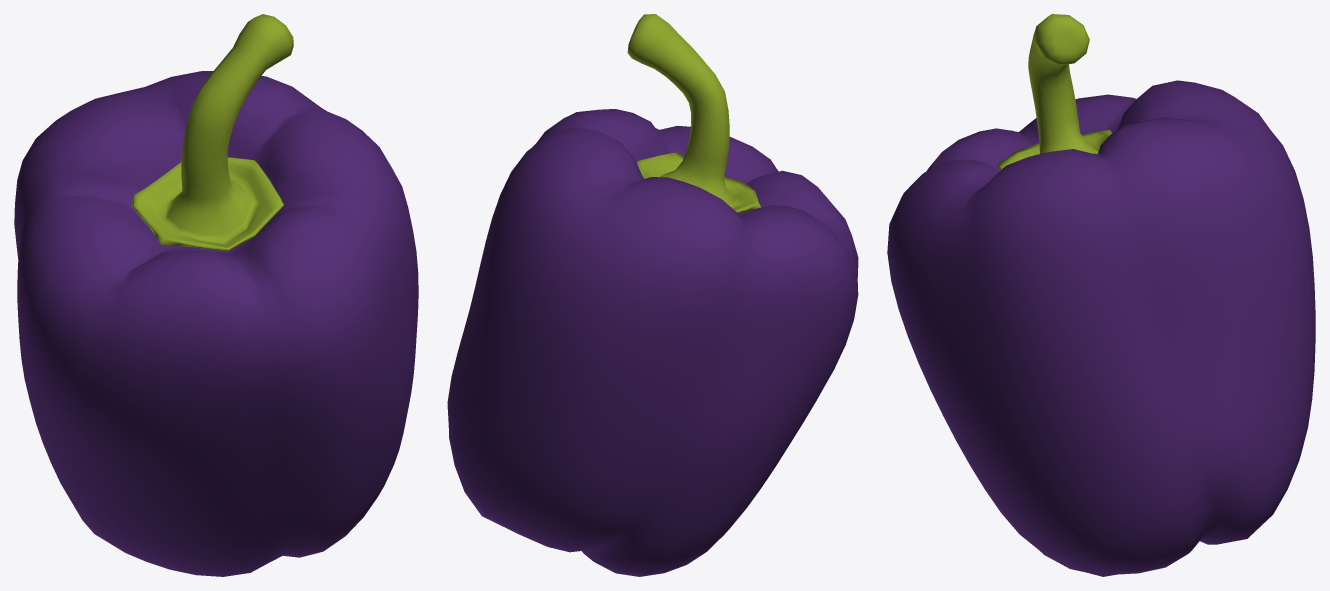
The model's file is BellPepper4.fbx.
The picture shows the model from 3 angles, left to right: view 1: azimuth 30°, elevation 25°; view 2: azimuth 150°, elevation 25°; view 3: azimuth 270°, elevation 25°; orthographic projection. The views are drawn at different scales.
Visible parts, largest first — view 1: BellPepper4; view 2: BellPepper4; view 3: BellPepper4.
Part boxes in pixels (x1,y1,x2,y2): BellPepper4: (14,14,418,576); BellPepper4: (447,14,858,576); BellPepper4: (887,14,1315,576).
Size of the model in its own units: 0.0408 by 0.0579 by 0.0414.
